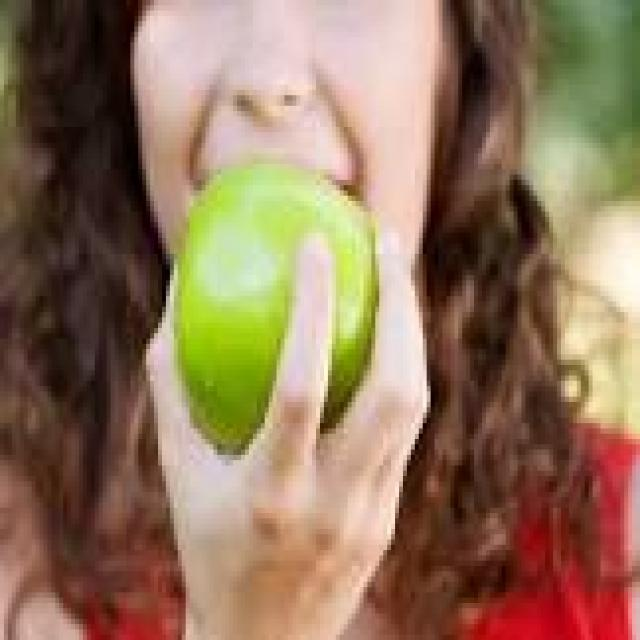apple: (175, 165, 377, 431)
